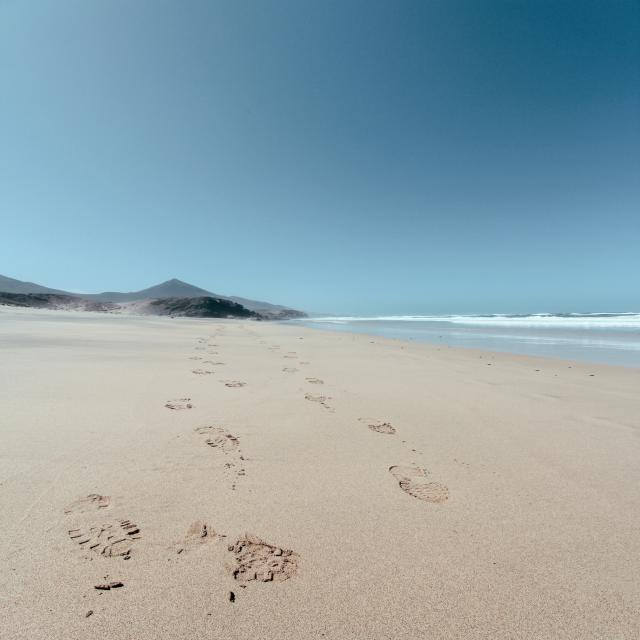human_foot_print: (47, 432, 366, 602)
